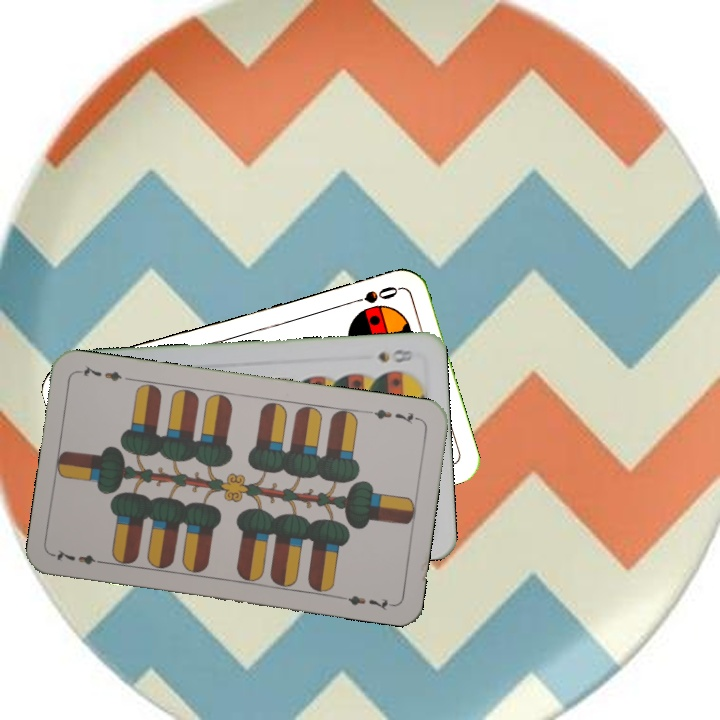E7: (50, 545, 109, 568), (363, 405, 422, 427)
S8: (374, 345, 416, 366)
SO: (343, 282, 401, 308)
